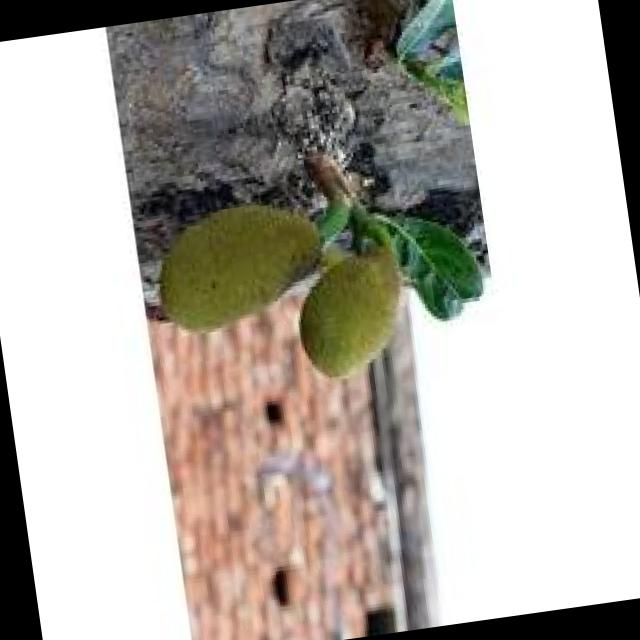Fruit: (136, 183, 346, 352), (270, 233, 428, 402)
